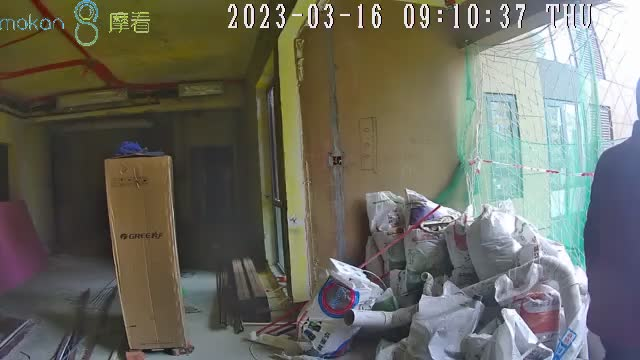people: (581, 74, 640, 356)
window: (461, 2, 640, 218)
